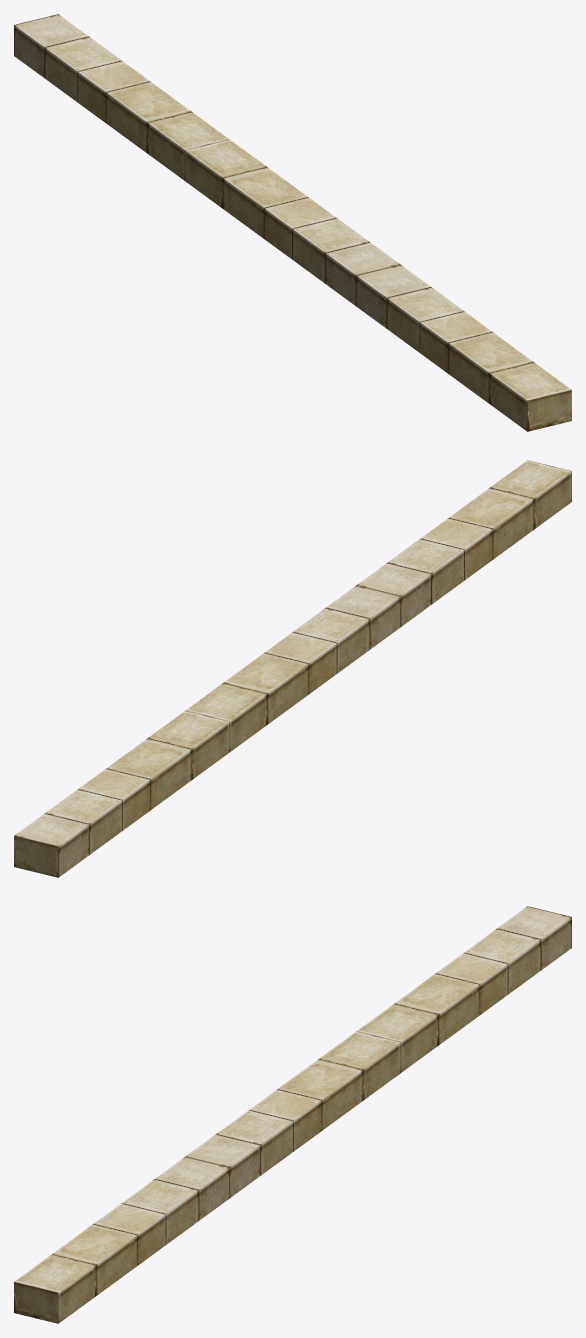
The picture shows the model from 3 angles, top to bottom: view 1: azimuth 30°, elevation 25°; view 2: azimuth 150°, elevation 25°; view 3: azimuth 330°, elevation 25°; orthographic projection.
Parts seen in each view (by area): view 1: geom_node_0; view 2: geom_node_0; view 3: geom_node_0.
Boxes of the visible parts, bbox=[...] form: geom_node_0: bbox=[14, 14, 571, 431]; geom_node_0: bbox=[14, 460, 571, 877]; geom_node_0: bbox=[14, 906, 571, 1323].
Bounding box in the file's own units: 0.3 × 0.2 × 6.
1 material, 1 textured.
